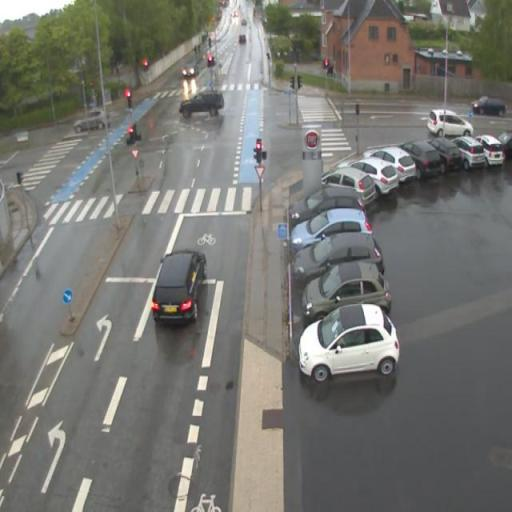小汽车: (299, 305, 397, 384), (290, 234, 390, 288), (148, 250, 207, 318), (306, 262, 390, 309), (292, 185, 369, 220), (294, 210, 368, 244), (342, 154, 400, 197), (322, 168, 378, 208), (426, 108, 474, 140), (179, 90, 225, 118)
